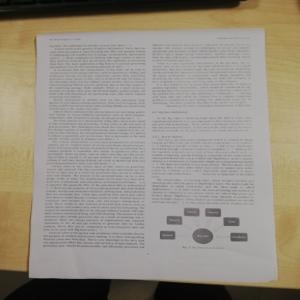diagram: (157, 208, 256, 245)
text: (42, 42, 145, 248), (153, 109, 262, 209), (148, 41, 253, 110)
